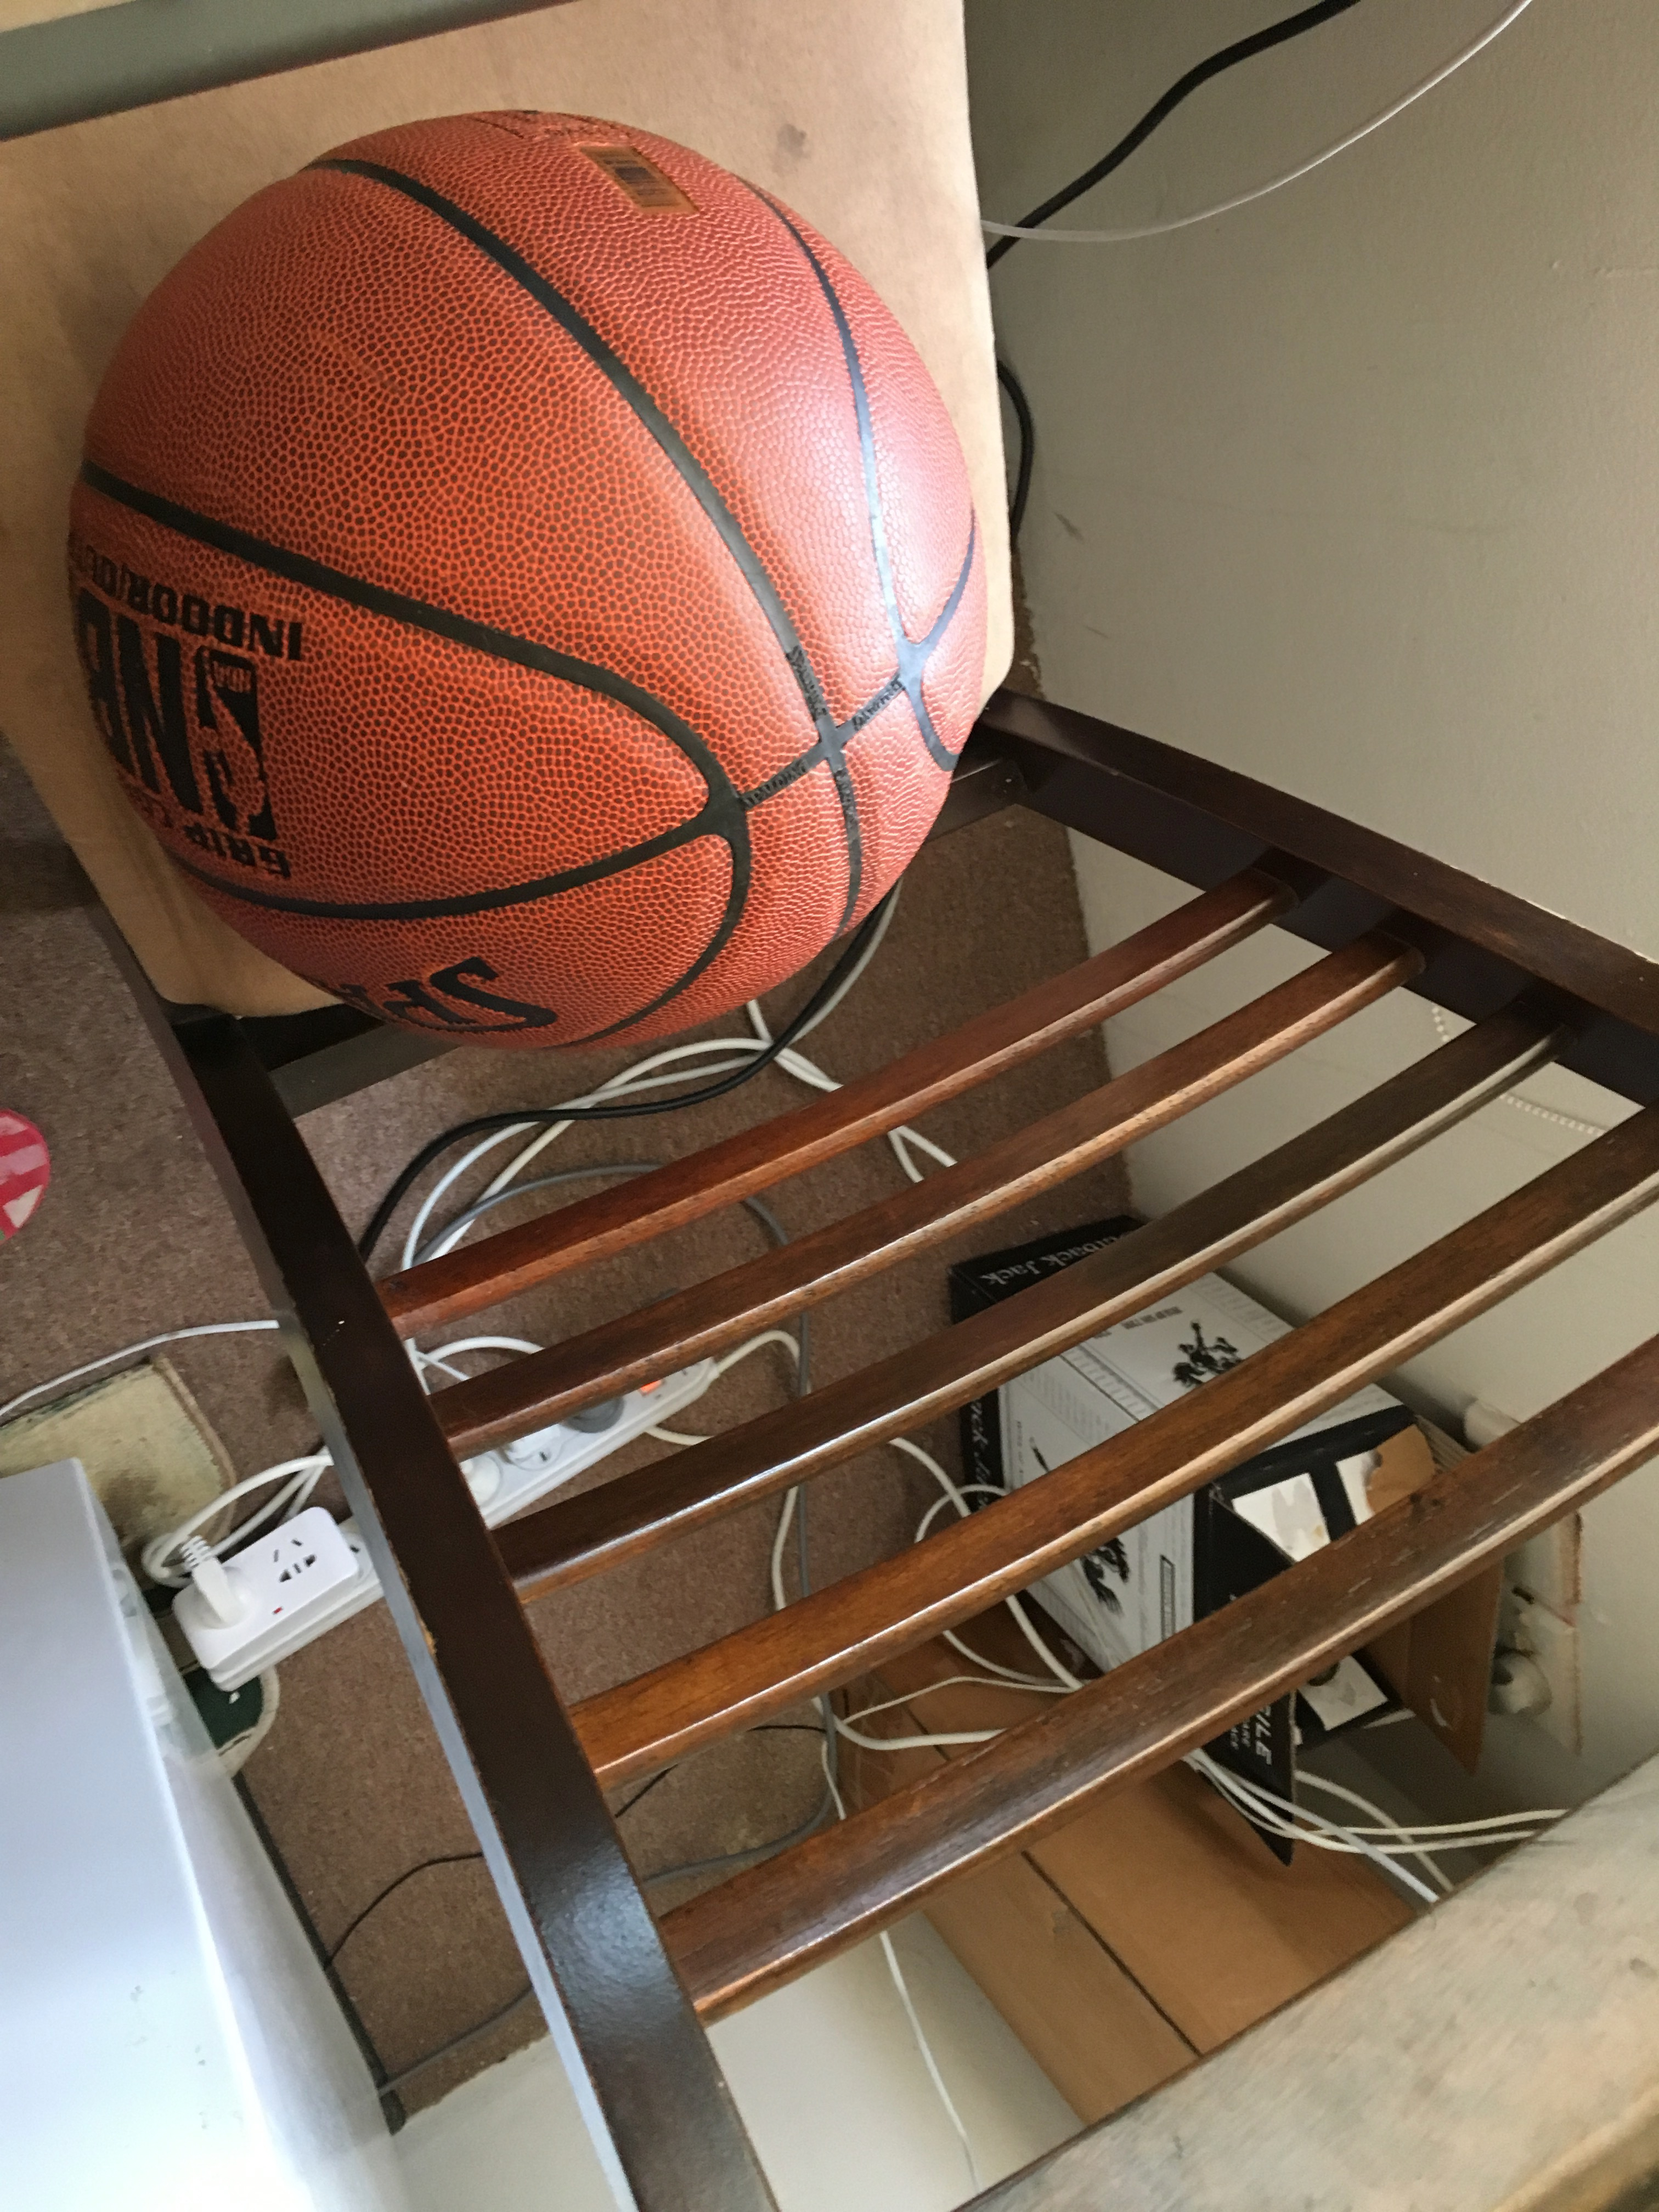Basketball: (49, 91, 1032, 1078)
